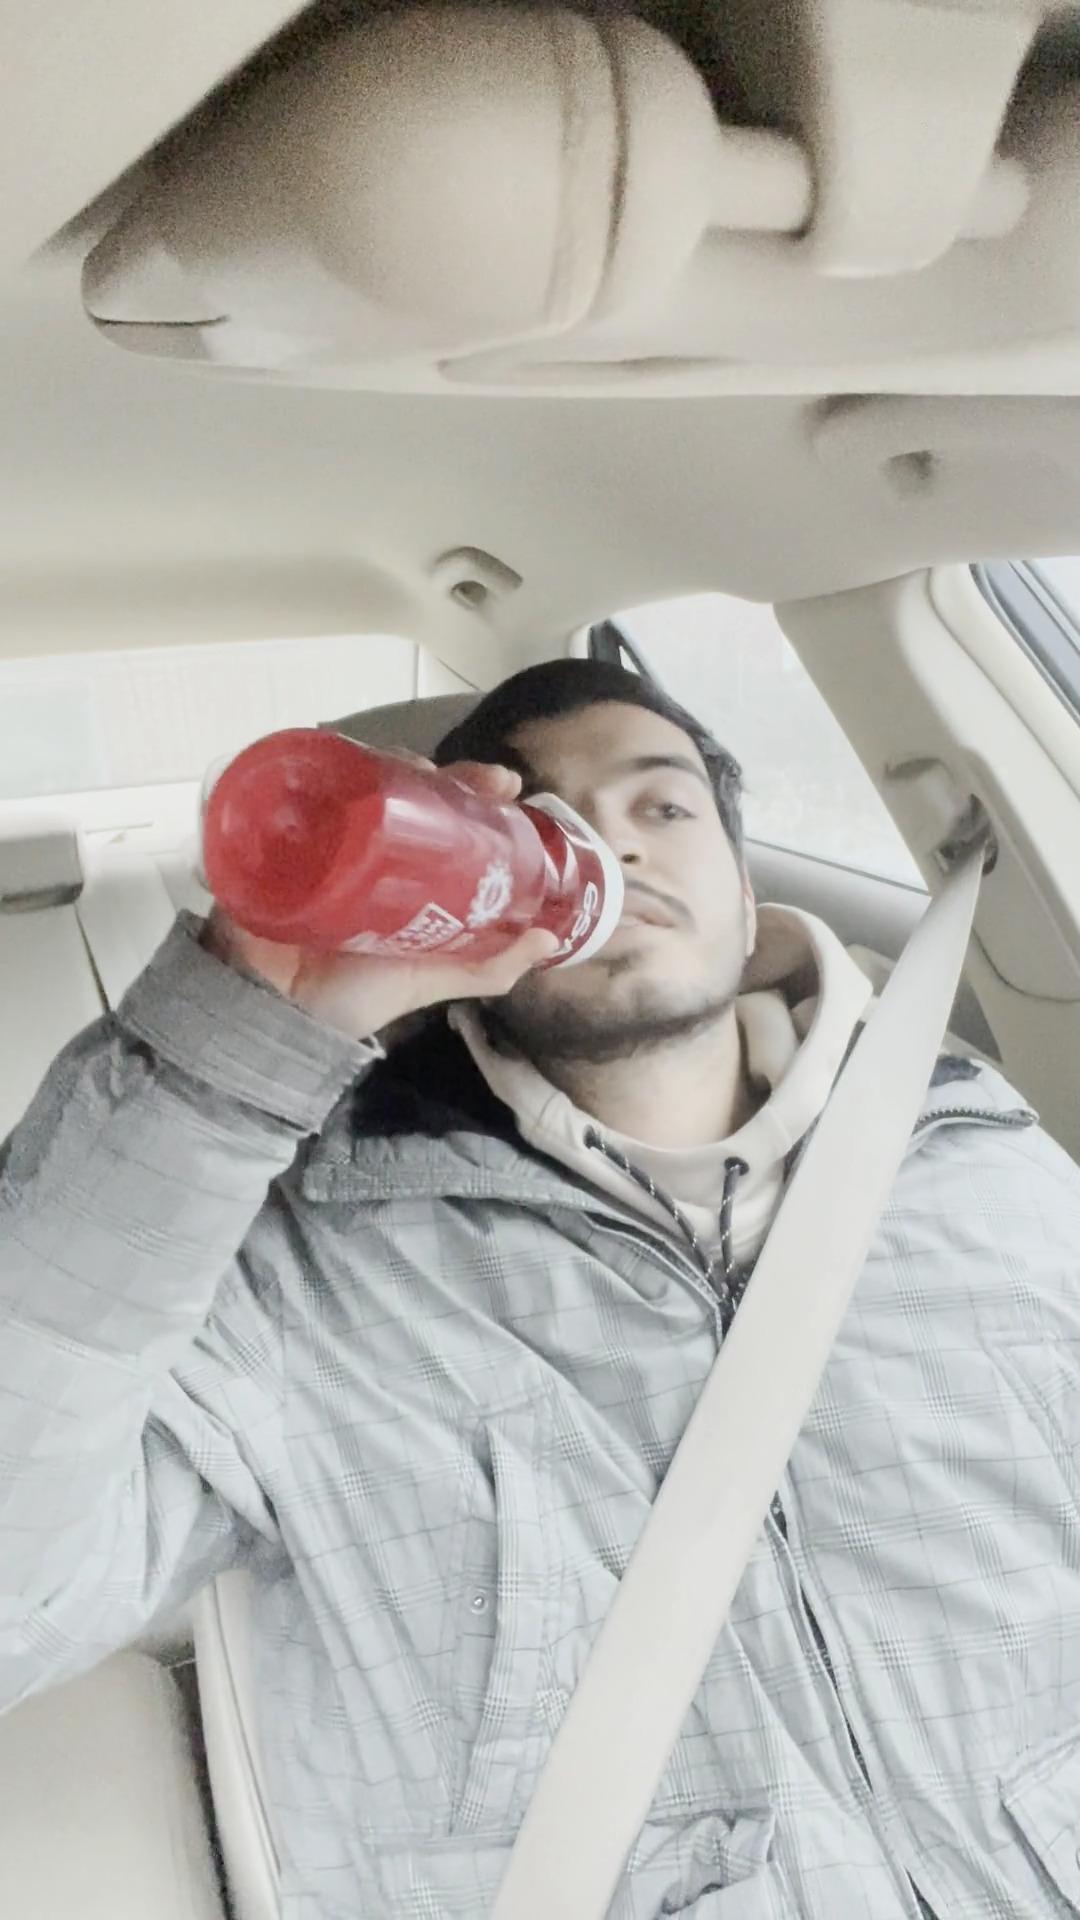drinking: (170, 683, 675, 978)
seatbelt: (348, 1125, 1080, 1920)
